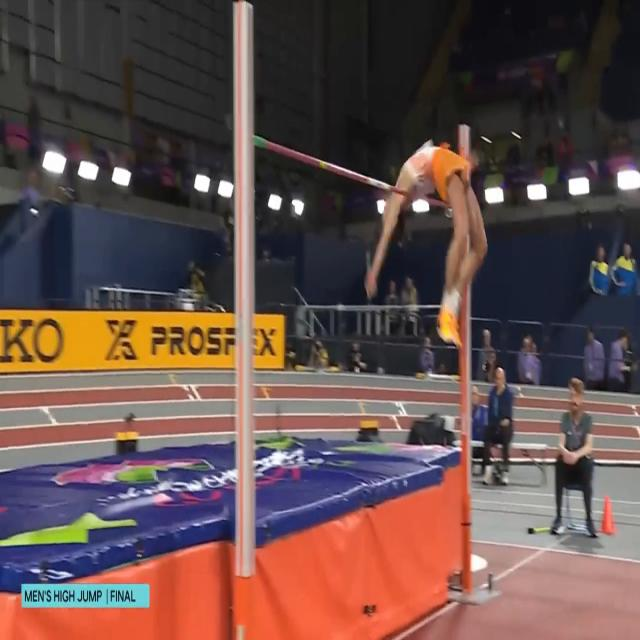jump: (363, 137, 489, 348)
